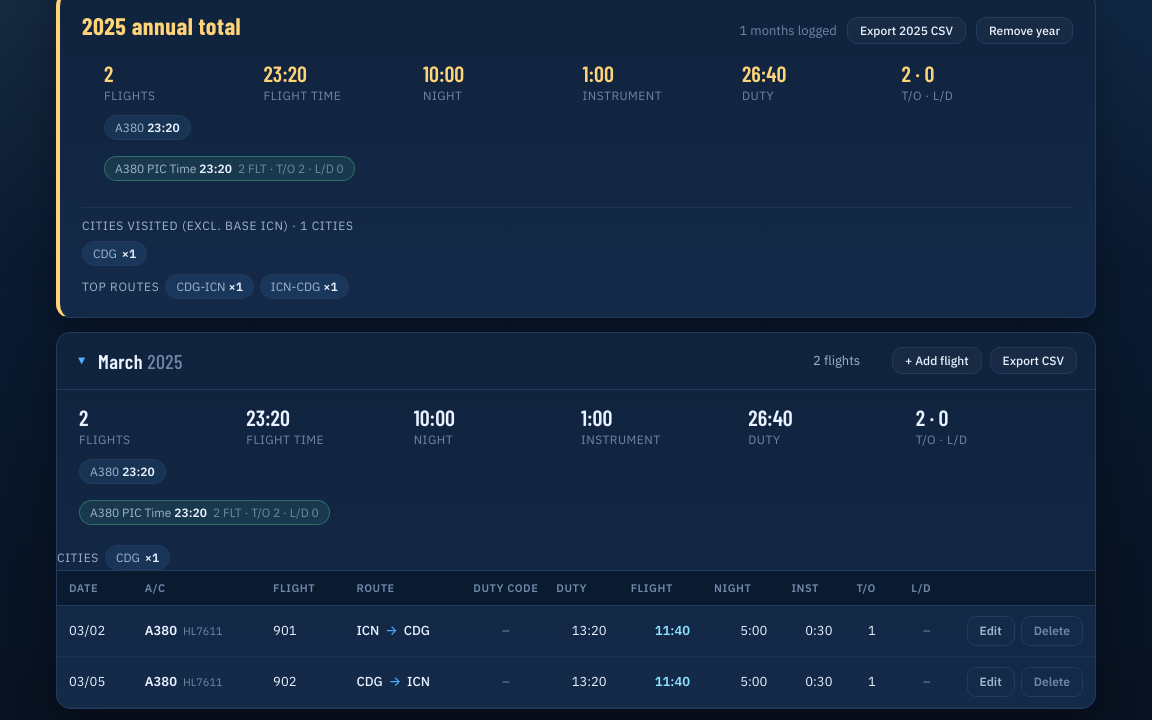
Test case: manual entry › opens the form prefilled with the month it was opened from
(page scrolled)
Click the button "+ Add flight".
click(937, 361)  # box [892,347,982,374]
(page scrolled)
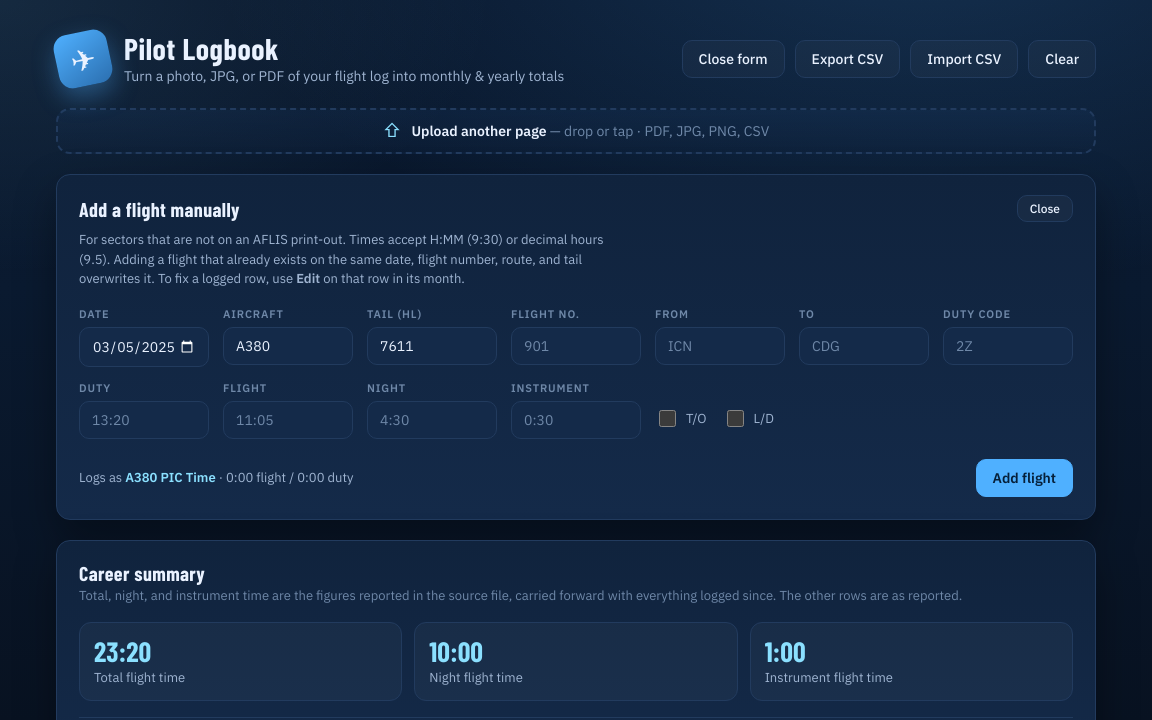
Expected: the date field labelled "Date" holds "2025-03-05", [79,326,209,366]
Expected: the field showing "A380" is shown, [223,326,353,364]
